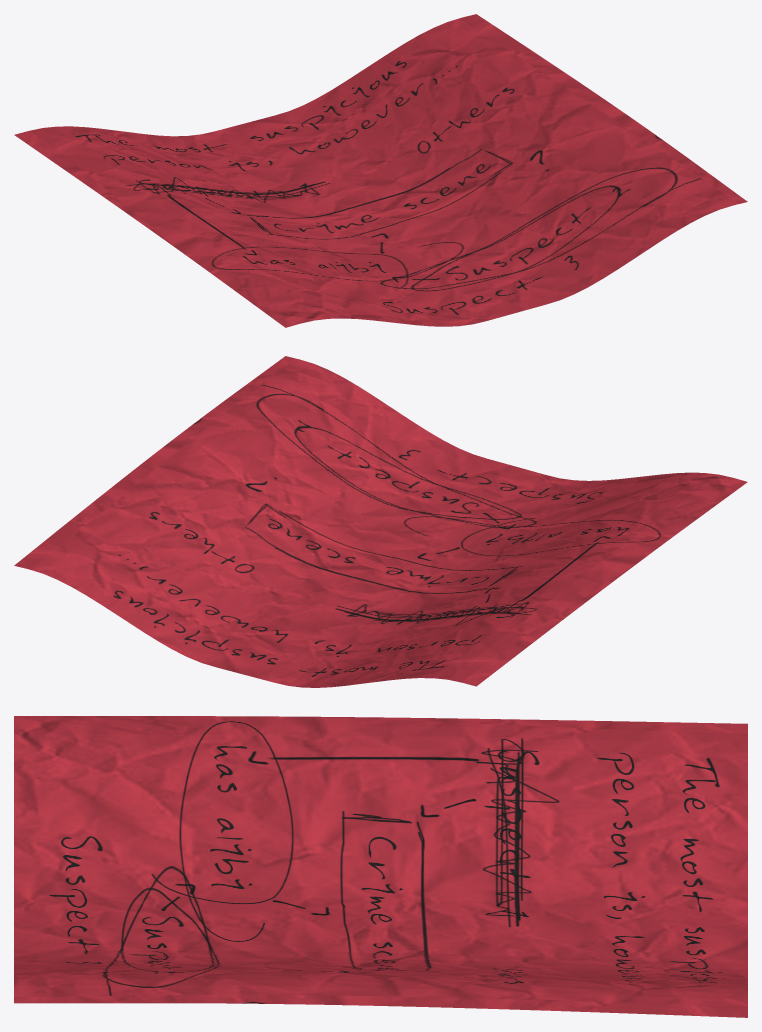
The model's file is Sticky Note red NEW.fbx.
3 renders of one model, top to bottom at view 1: azimuth 30°, elevation 25°; view 2: azimuth 150°, elevation 25°; view 3: azimuth 270°, elevation 25°, orthographic. The views are drawn at different scales.
Visible parts, largest first — view 1: Sticky Note red; view 2: Sticky Note red; view 3: Sticky Note red.
Boxes of the visible parts, x1,y1,x2,y2 form: Sticky Note red: (14, 14, 747, 327); Sticky Note red: (14, 356, 747, 687); Sticky Note red: (14, 716, 747, 1017).
Bounding box in the file's own units: 58.37 × 7.77 × 59.38.
